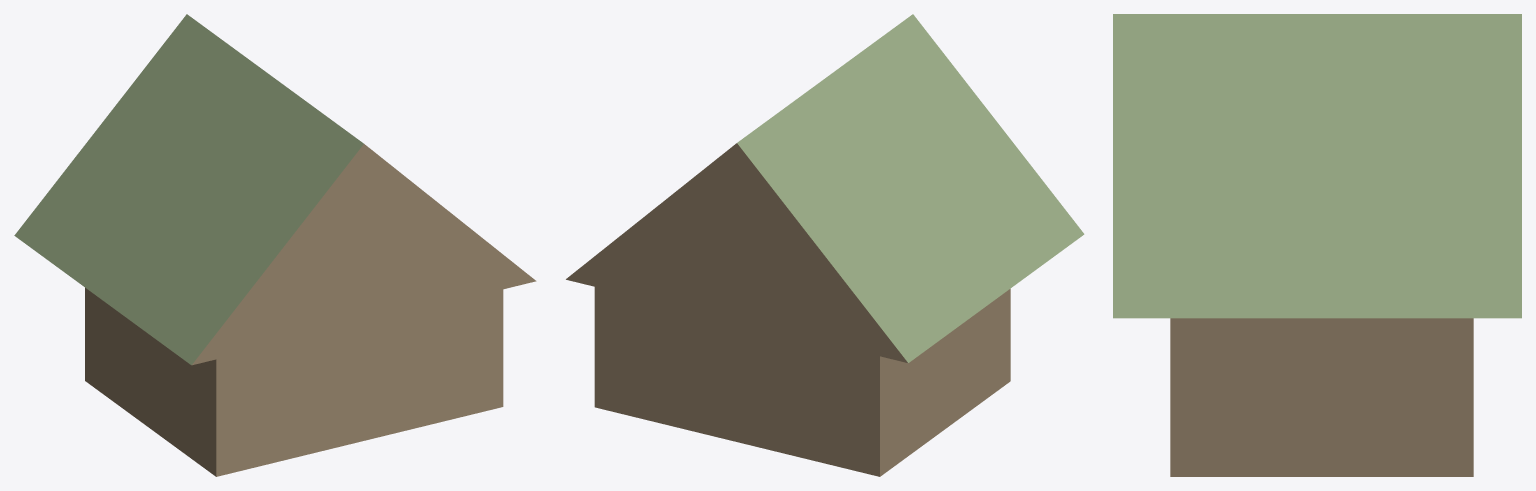
The model's file is loin.glb.
3 renders of one model, left to right at view 1: azimuth 30°, elevation 25°; view 2: azimuth 150°, elevation 25°; view 3: azimuth 270°, elevation 25°, orthographic. The views are drawn at different scales.
Parts seen in each view (by area): view 1: loin; view 2: loin; view 3: loin.
Part boxes in pixels (<box>): loin: <box>14,14,536,476</box>; loin: <box>566,14,1084,476</box>; loin: <box>1113,14,1521,476</box>.
Size of the model in its own units: 0.9797 by 0.8718 by 0.8715.
